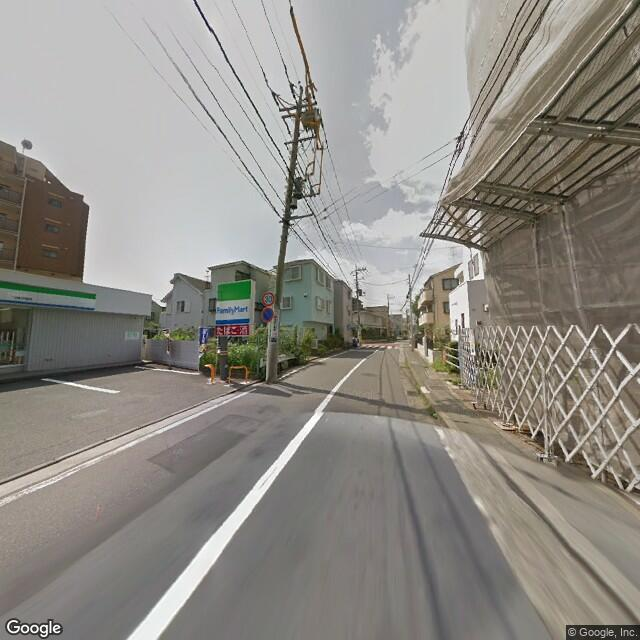family_mart: (1, 279, 97, 315), (216, 279, 253, 328)
